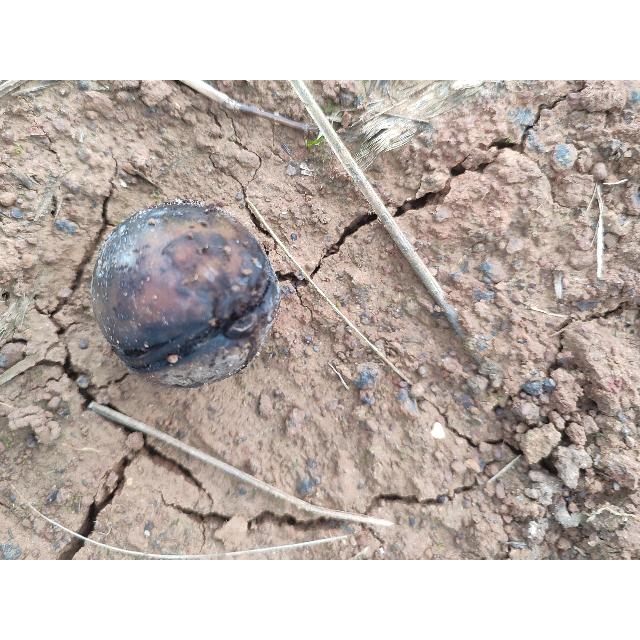damaged: (88, 202, 281, 389)
